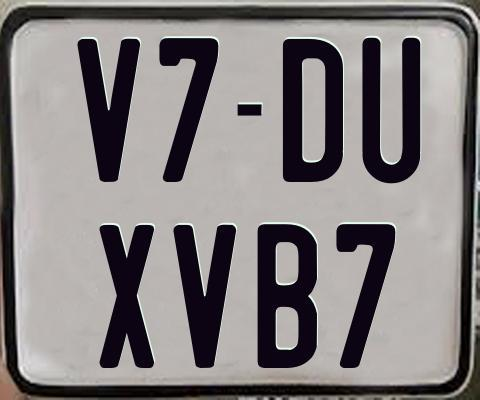7: (159, 35, 219, 179), (333, 223, 392, 367)
B: (257, 221, 320, 367)
D: (281, 39, 341, 183)
U: (359, 38, 418, 186)
V: (74, 36, 143, 179), (171, 225, 234, 369)
X: (99, 223, 156, 372)
